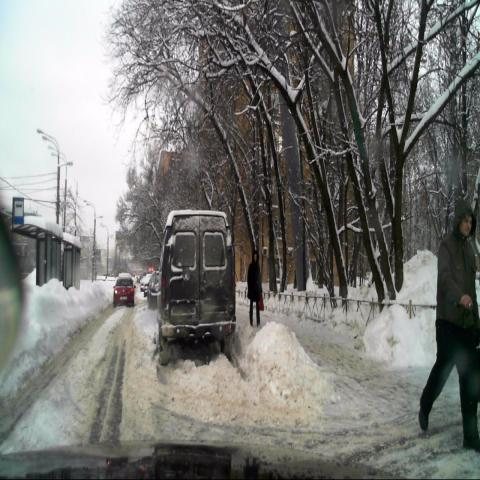5_16: (12, 198, 24, 226)
